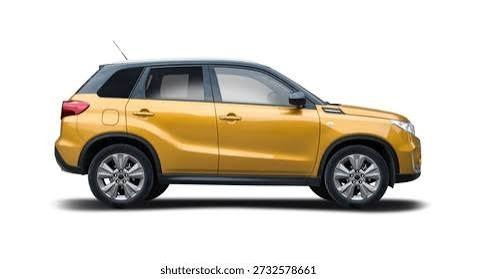car: (45, 53, 430, 206), (44, 56, 416, 201)
